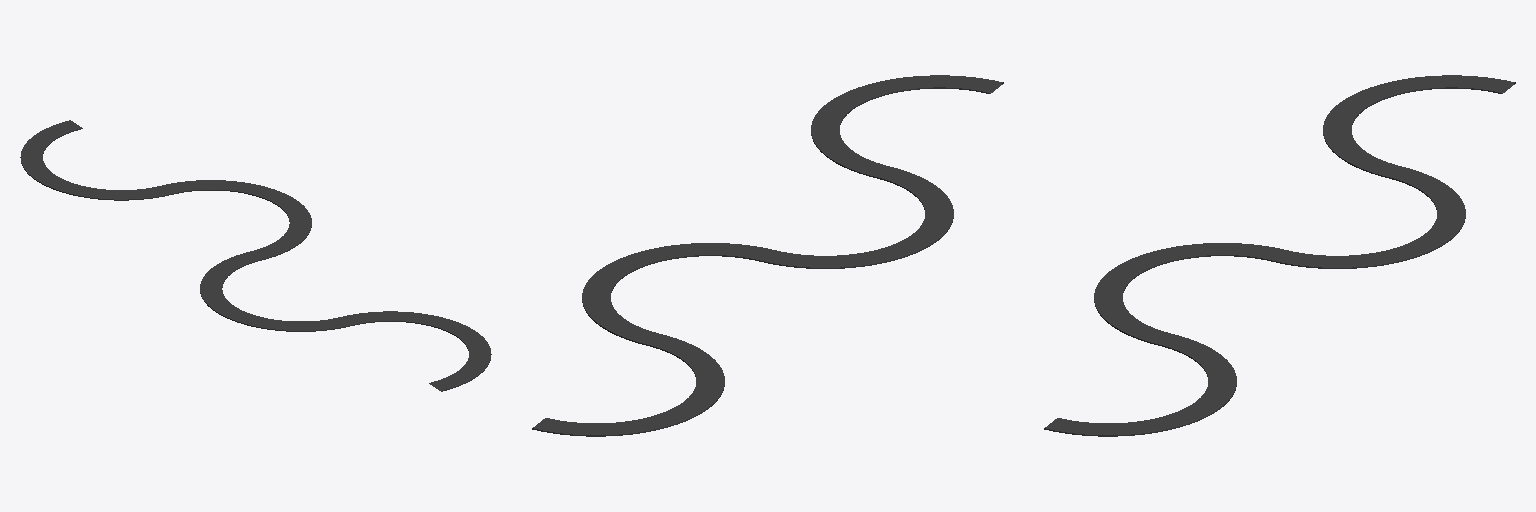
URDF robot description (continuous_s_curves):
<?xml version="1.0" encoding="UTF-8"?>
<robot name="continuous_s_curves">
  <!-- Continuous S-Curves Terrain - 4 curves with 8m radius -->
  
  <!-- Segment 0: friction=0.80 -->
  <link name="segment_0">
    <visual>
      <origin xyz="0 0 0" rpy="0 0 0"/>
      <geometry>
        <mesh filename="adaptive_terrain_continuous_s_curves_uniform.obj" scale="1.0 1.0 1.0"/>
      </geometry>
      <material name="mat_0">
        <color rgba="0.3 0.3 0.3 1.0"/>
      </material>
    </visual>
    
    <collision>
      <origin xyz="0 0 0" rpy="0 0 0"/>
      <geometry>
        <mesh filename="adaptive_terrain_continuous_s_curves_uniform.obj" scale="1.0 1.0 1.0"/>
      </geometry>
      <contact>
        <lateral_friction value="0.8"/>
        <rolling_friction value="0.08000000000000002"/>
        <spinning_friction value="0.04000000000000001"/>
      </contact>
    </collision>
    
    <inertial>
      <mass value="0.0"/>
      <inertia ixx="0.0" ixy="0.0" ixz="0.0" 
               iyy="0.0" iyz="0.0" izz="0.0"/>
    </inertial>
  </link>
  
</robot>

--- Facts derived from the render (not from the file) ---
The picture shows the robot from 3 angles, left to right: view 1: azimuth 30°, elevation 25°; view 2: azimuth 150°, elevation 25°; view 3: azimuth 330°, elevation 25°; orthographic projection.
Robot: continuous_s_curves — 1 links, 0 joints (none); root link segment_0; default pose: all joints at 0.
Visible links, largest first — view 1: segment_0; view 2: segment_0; view 3: segment_0.
Link boxes in pixels (x1=…): segment_0: x1=20, y1=120, x2=491, y2=391; segment_0: x1=532, y1=75, x2=1003, y2=436; segment_0: x1=1044, y1=75, x2=1515, y2=436.
Size in the robot's own frame: 17.99 by 66 by 0.1 metres.
1 mesh visuals loaded from 1 distinct referenced files (1 OBJ).
